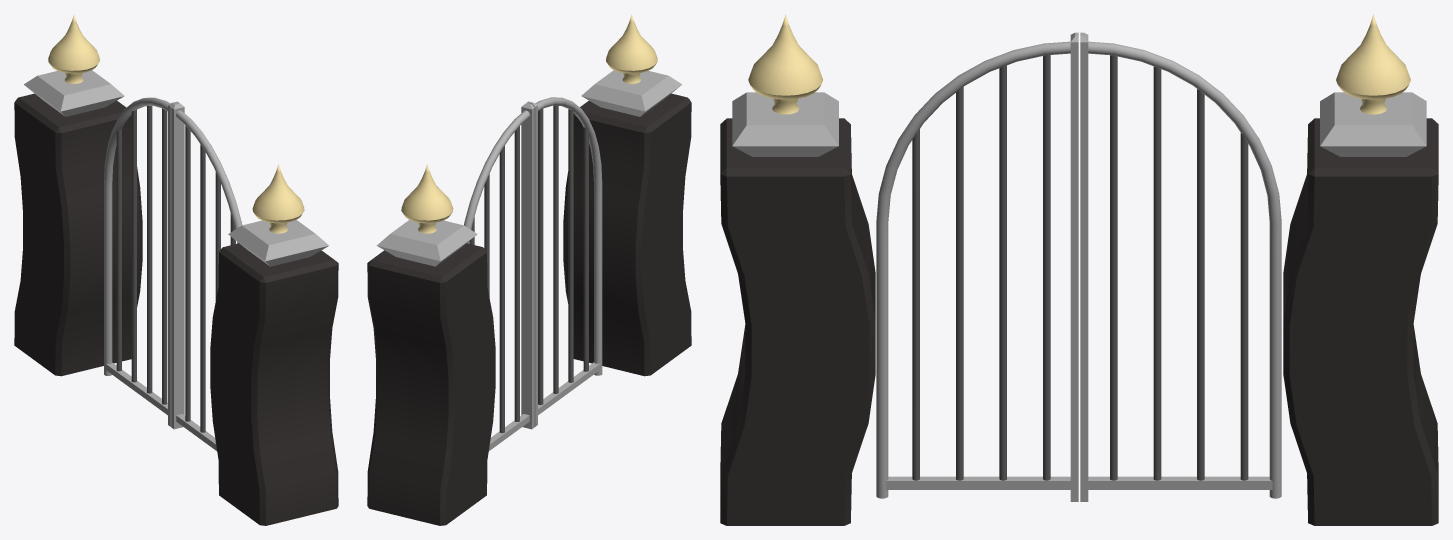
File: gate.fbx
The picture shows the model from 3 angles, left to right: view 1: azimuth 30°, elevation 25°; view 2: azimuth 150°, elevation 25°; view 3: azimuth 270°, elevation 25°; orthographic projection. The views are drawn at different scales.
Parts seen in each view (by area): view 1: gate; view 2: gate; view 3: gate.
Part boxes in pixels (bbox=[...]): gate: bbox=[14, 14, 338, 525]; gate: bbox=[367, 14, 691, 525]; gate: bbox=[720, 14, 1438, 525].
Bounding box in the file's own units: 6 × 24.54 × 33.
